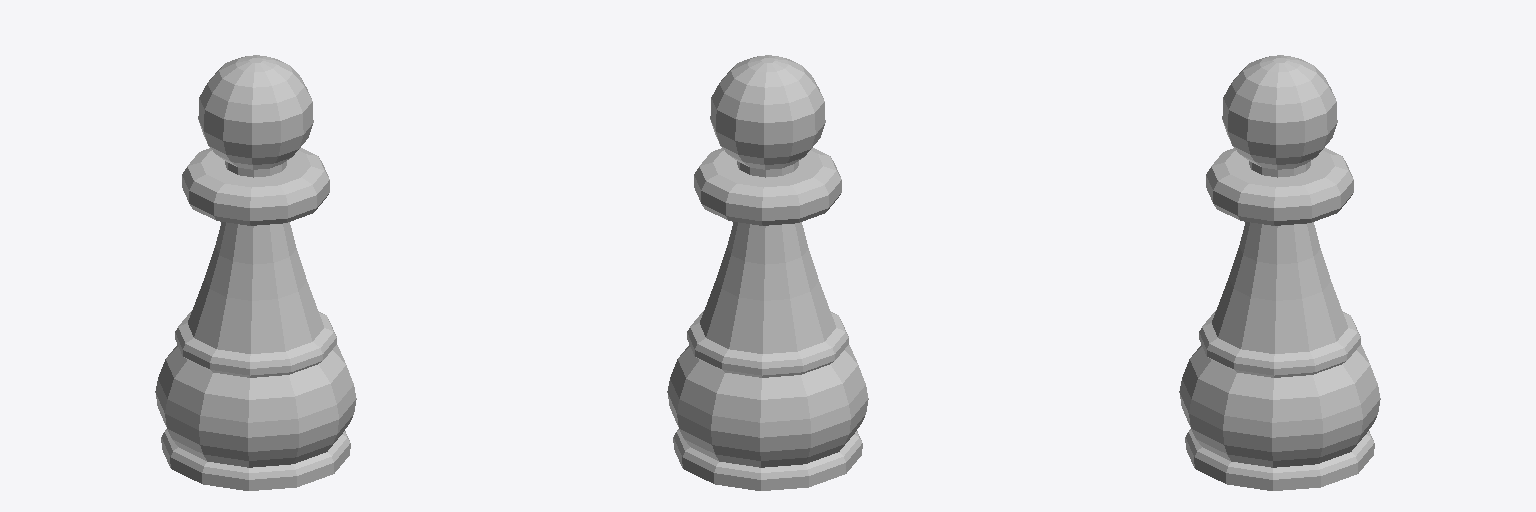
3 renders of one model, left to right at view 1: azimuth 30°, elevation 25°; view 2: azimuth 150°, elevation 25°; view 3: azimuth 270°, elevation 25°, orthographic.
Visible parts, largest first — view 1: _PawnFBXASC046006; view 2: _PawnFBXASC046006; view 3: _PawnFBXASC046006.
Part boxes in pixels (x1,y1,x2,y2): _PawnFBXASC046006: (155,55,356,490); _PawnFBXASC046006: (667,55,868,490); _PawnFBXASC046006: (1179,55,1380,490).
Size of the model in its own units: 2.05 by 4.4 by 2.05.